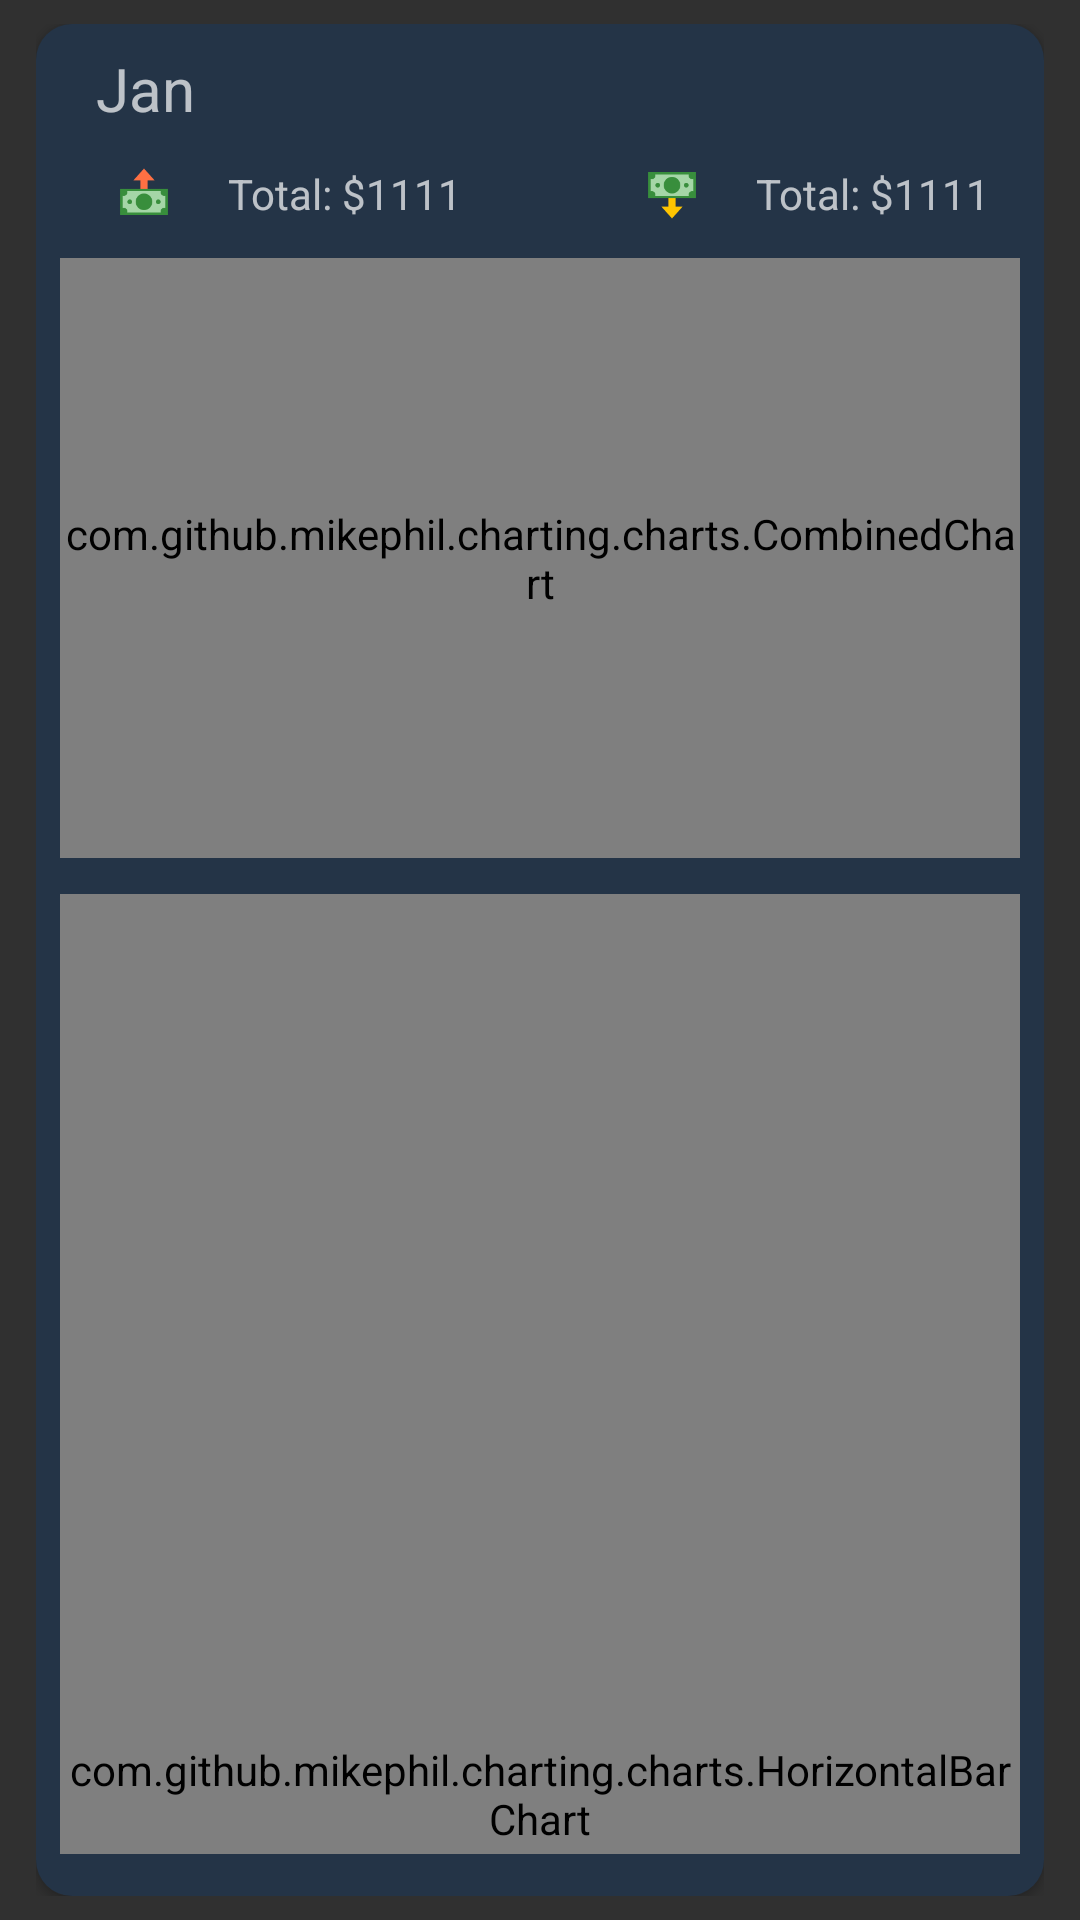

Icon bounding boxes for this 1080w x 1920h phone screenshot, format rect(x1, y1, x2, y2):
income: rect(648, 172, 696, 219)
outcome: rect(120, 168, 168, 215)
